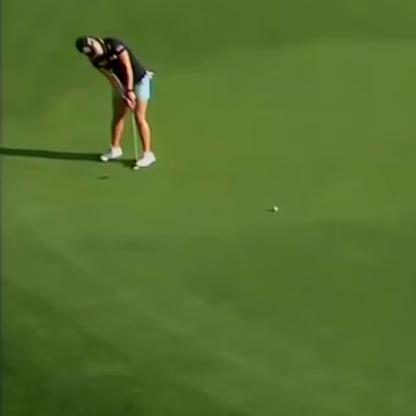golfball: (271, 202, 276, 209)
